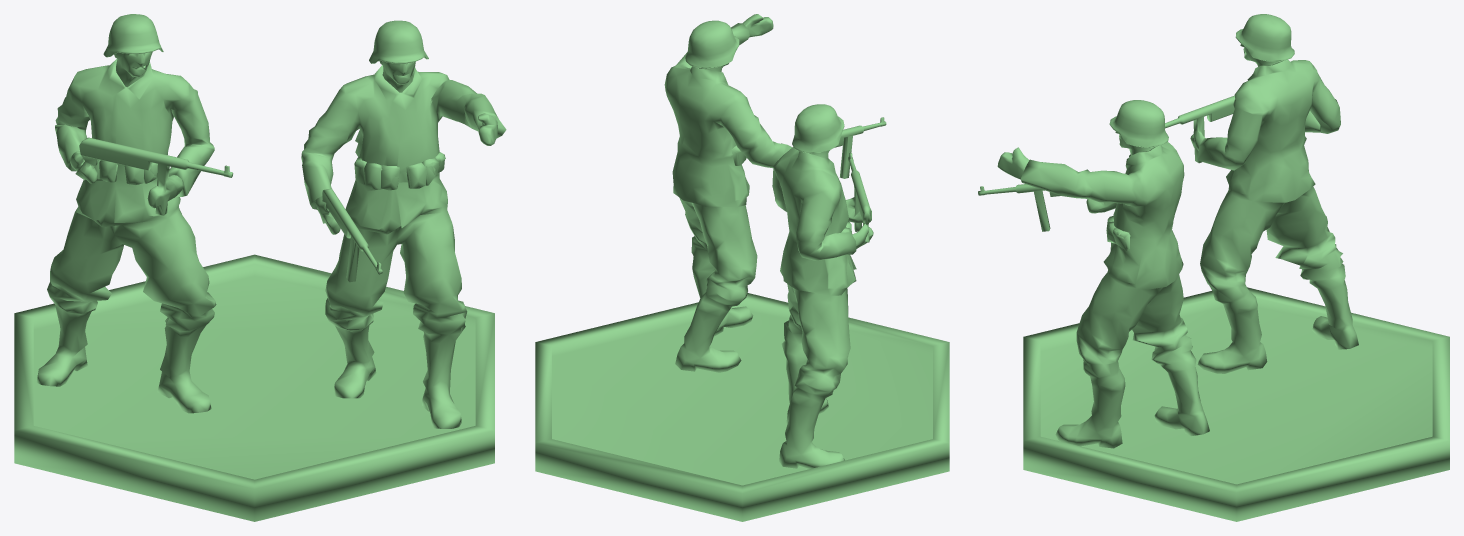
File: soldwerm.fbx
The picture shows the model from 3 angles, left to right: view 1: azimuth 30°, elevation 25°; view 2: azimuth 150°, elevation 25°; view 3: azimuth 270°, elevation 25°; orthographic projection. The views are drawn at different scales.
Parts seen in each view (by area): view 1: polySurface1; view 2: polySurface1; view 3: polySurface1.
Boxes of the visible parts, left/top/right/bottom form: polySurface1: left=14, top=14, right=506, bottom=521; polySurface1: left=535, top=14, right=949, bottom=521; polySurface1: left=978, top=14, right=1449, bottom=521.
Bounding box in the file's own units: 24.55 × 19.56 × 23.53.
